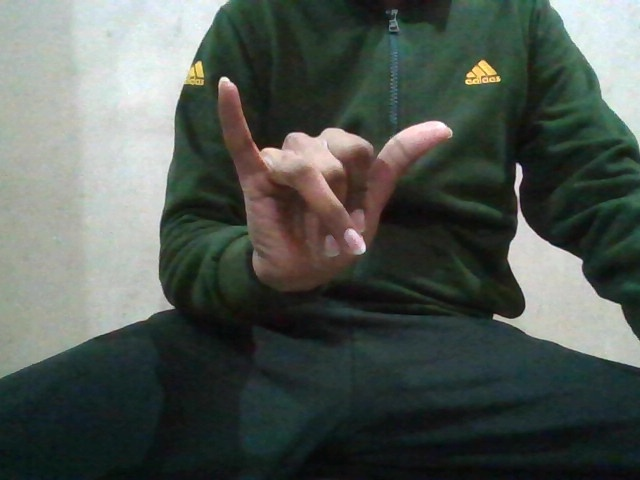Y: (213, 81, 456, 286)
